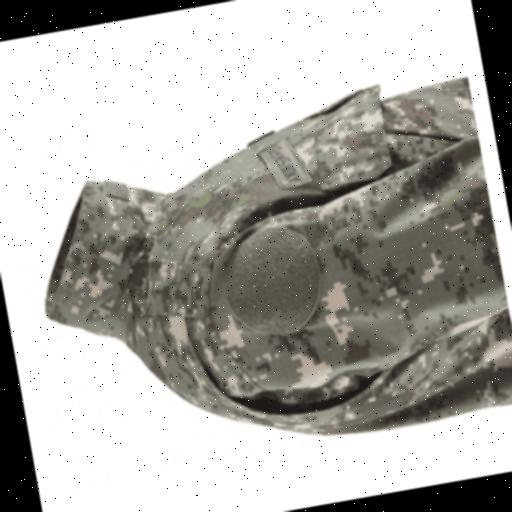korea army: (13, 68, 512, 485)
